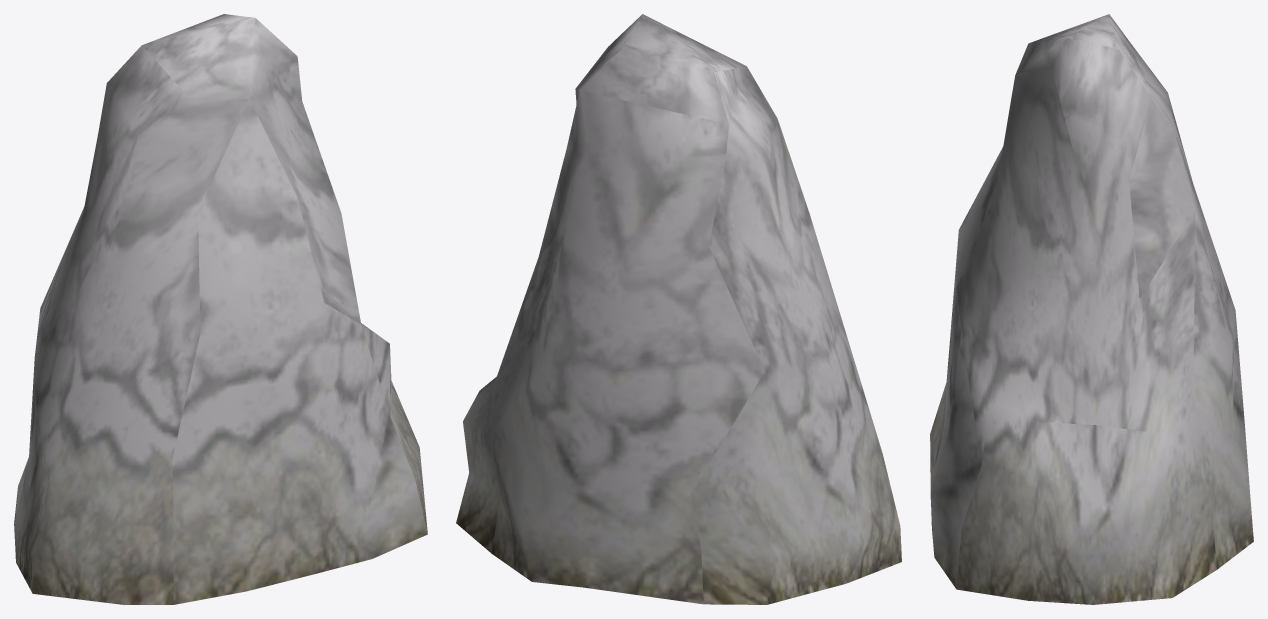
The model's file is general_obj_bigstone09.glb.
3 renders of one model, left to right at view 1: azimuth 30°, elevation 25°; view 2: azimuth 150°, elevation 25°; view 3: azimuth 270°, elevation 25°, orthographic.
Visible parts, largest first — view 1: Sphere01fs01; view 2: Sphere01fs01; view 3: Sphere01fs01.
Boxes of the visible parts, x1=… form: Sphere01fs01: x1=14, y1=14, x2=427, y2=604; Sphere01fs01: x1=456, y1=14, x2=901, y2=604; Sphere01fs01: x1=930, y1=14, x2=1253, y2=604.
Bounding box in the file's own units: 15.79 × 19.25 × 11.38.
1 material, 1 textured.
